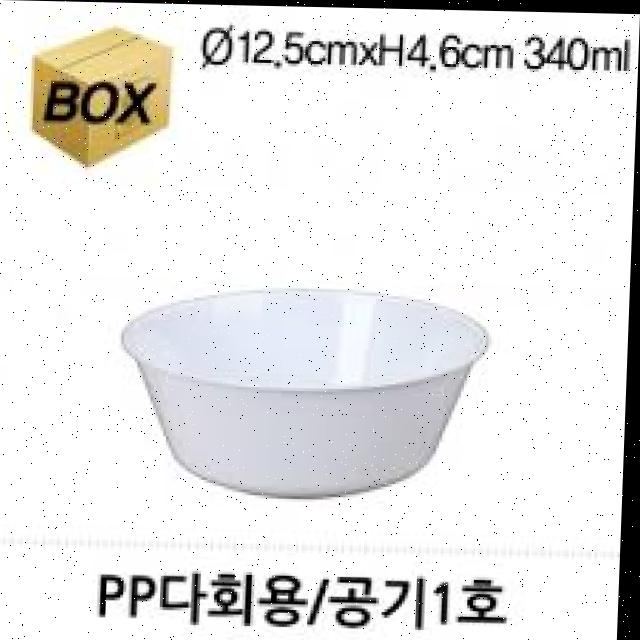disposable: (111, 273, 516, 516)
